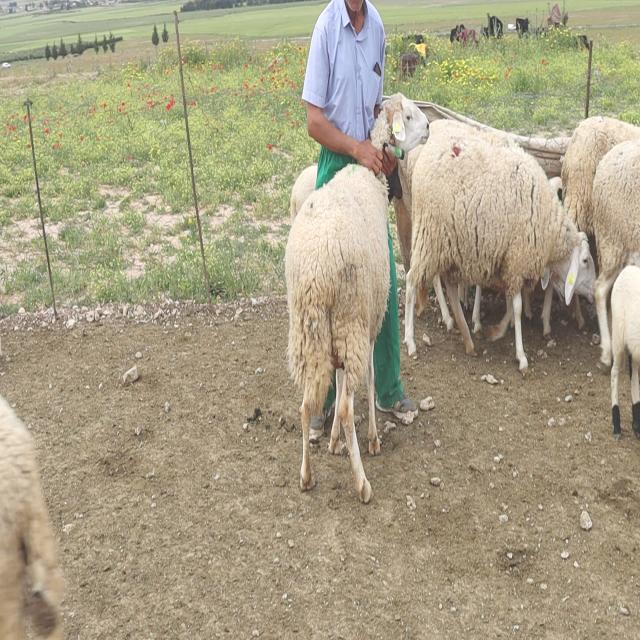Score_5: (284, 164, 390, 503)
